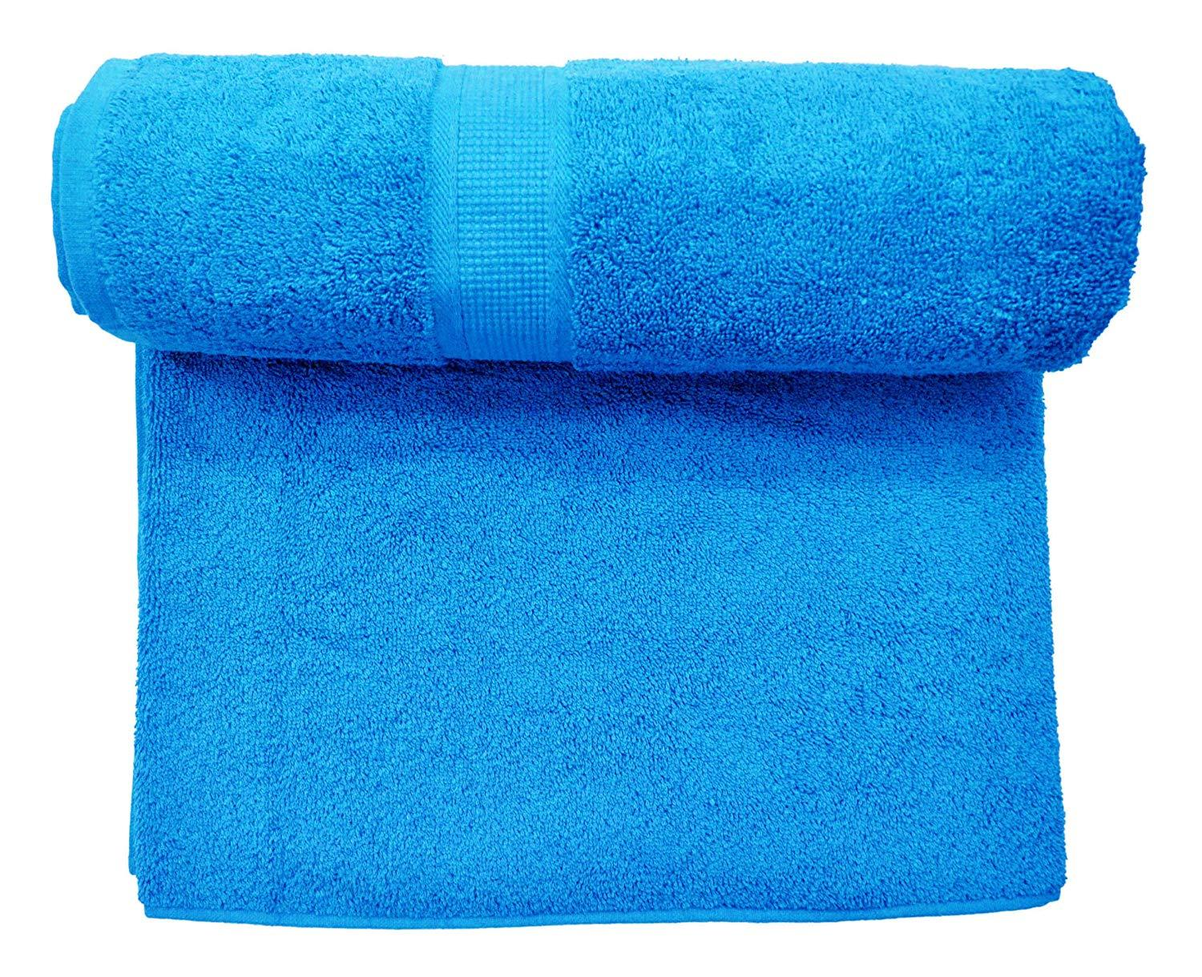Towel: (42, 56, 1152, 977)
